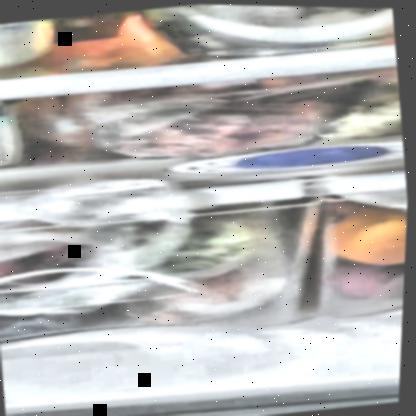orange: (334, 202, 408, 266)
